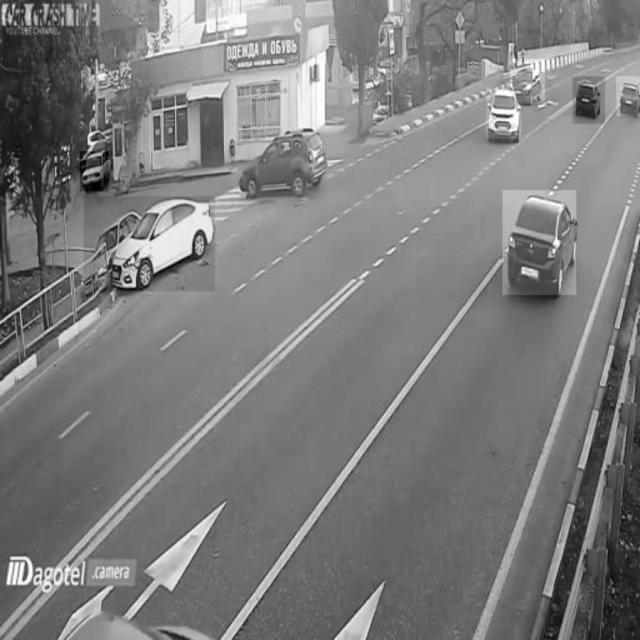accident: (84, 197, 215, 291)
vehicle: (503, 190, 576, 294), (239, 130, 325, 191), (486, 88, 521, 139), (510, 59, 546, 104), (572, 77, 606, 124), (80, 152, 108, 192), (616, 76, 640, 116)
